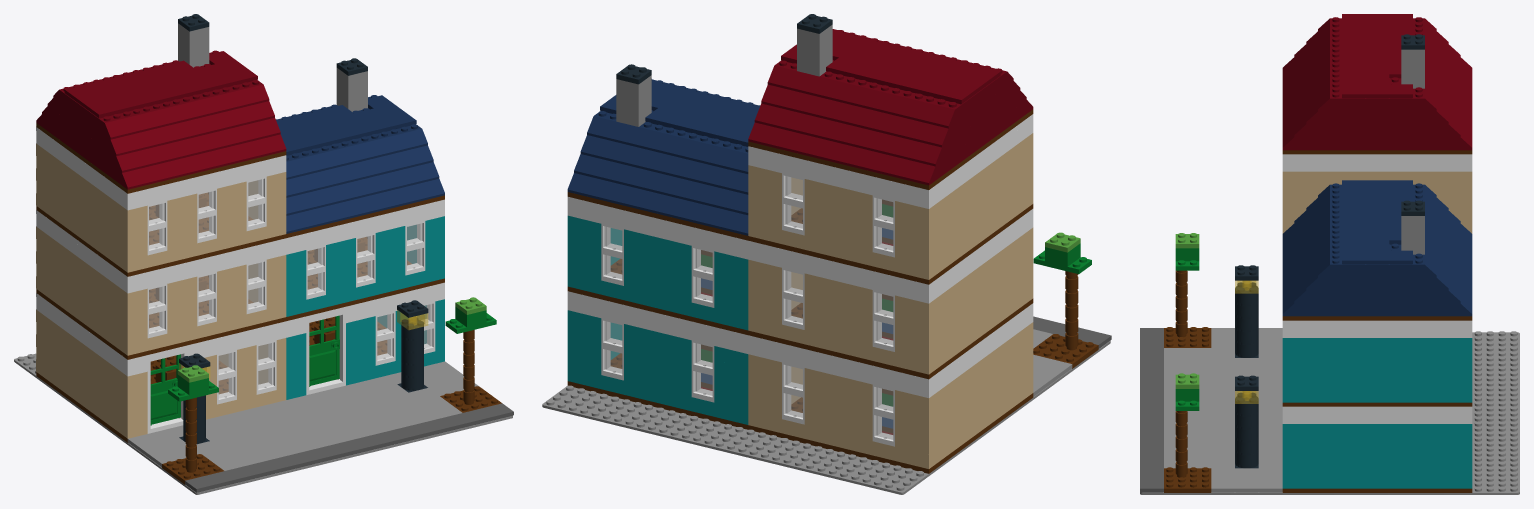
File: copper-lane.glb
The picture shows the model from 3 angles, left to right: view 1: azimuth 30°, elevation 25°; view 2: azimuth 150°, elevation 25°; view 3: azimuth 270°, elevation 25°; orthographic projection. The views are drawn at different scales.
Visible parts, largest first — view 1: 91405.dat (×6), 60623.dat (×2), 60596.dat (×2), 3811.dat, 3031.dat (×2), 3039.dat; view 2: 3811.dat, 3039.dat (×15), 91405.dat (×7), 3031.dat; view 3: 3811.dat, 91405.dat (×4), 3039.dat (×4), 3031.dat (×2), 3941.dat (×2), 3007.dat (×2).
Boxes of the visible parts, x1,y1,x2,y2 form: 91405.dat (×6): [36, 123, 444, 442]; 60623.dat (×2): [150, 315, 339, 425]; 60596.dat (×2): [147, 311, 345, 433]; 3811.dat: [14, 353, 512, 494]; 3031.dat (×2): [162, 386, 501, 484]; 3039.dat: [99, 114, 130, 139]; 3811.dat: [542, 340, 1110, 494]; 3039.dat (×15): [587, 60, 961, 185]; 91405.dat (×7): [567, 109, 1033, 473]; 3031.dat: [1033, 334, 1098, 368]; 3811.dat: [1140, 331, 1519, 494]; 91405.dat (×4): [1282, 150, 1472, 492]; 3039.dat (×4): [1318, 87, 1436, 277]; 3031.dat (×2): [1164, 327, 1211, 492]; 3941.dat (×2): [1235, 282, 1258, 416]; 3007.dat (×2): [1389, 77, 1412, 277].
Size of the model in its own units: 0.256 by 0.2688 by 0.256.
